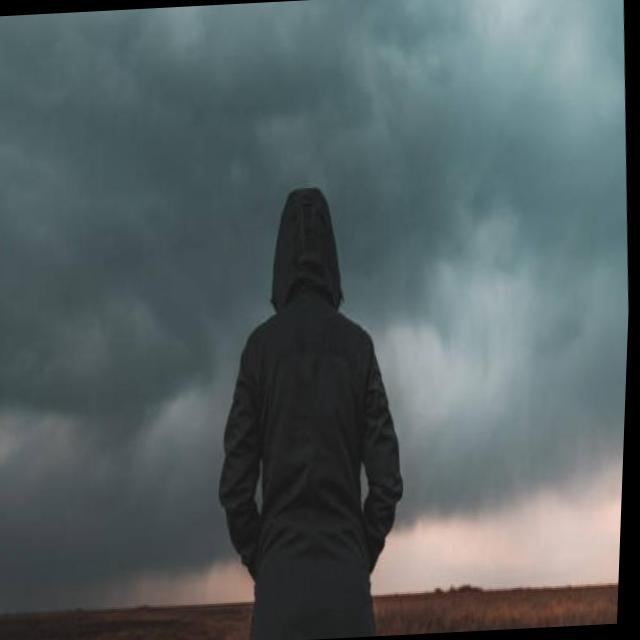no helmet: (249, 168, 370, 326)
